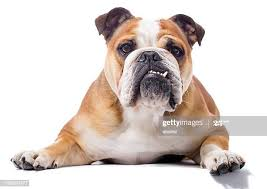Bulldog: (78, 7, 244, 176)
